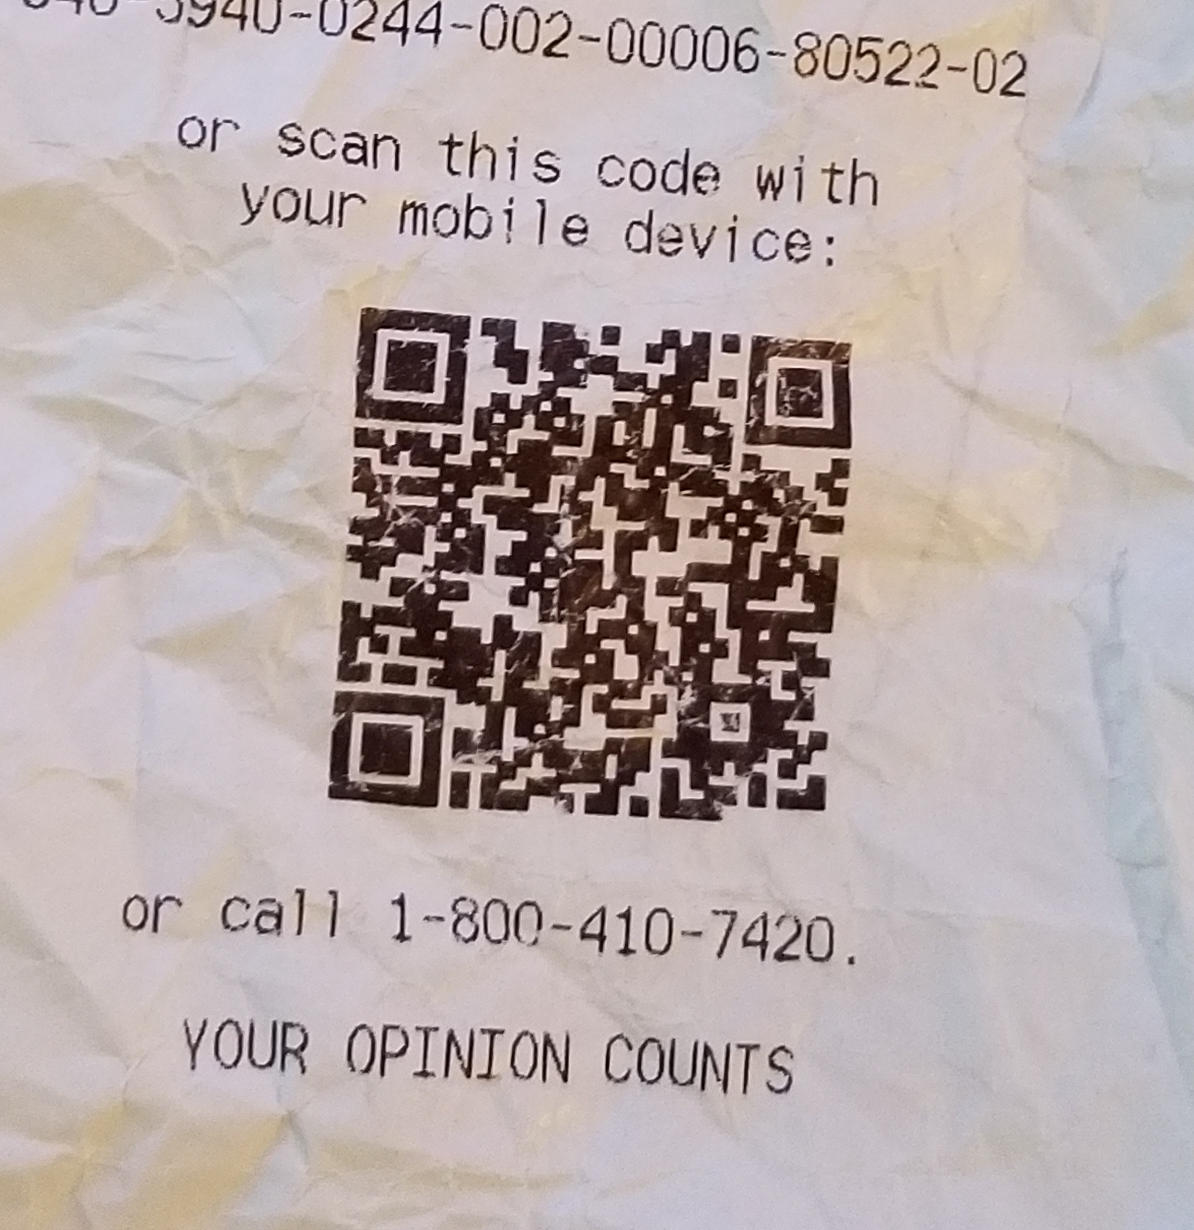QR_CODE: (316, 276, 873, 840)
